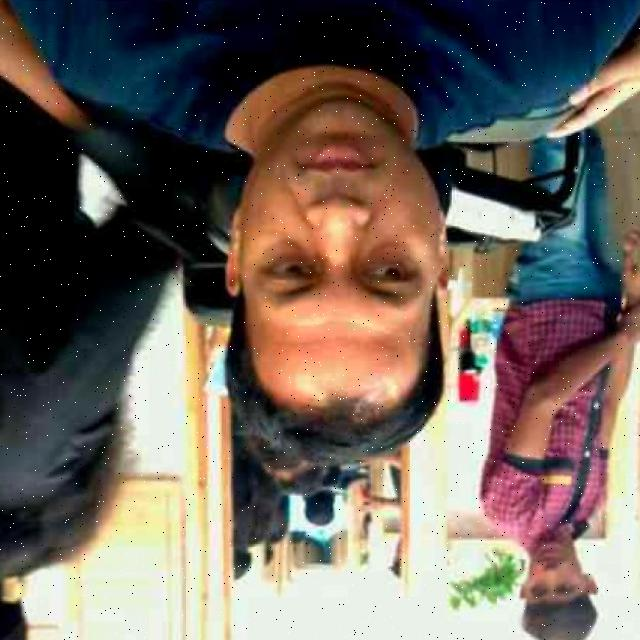puffy_eyes: (267, 239, 309, 259), (366, 240, 412, 258)
